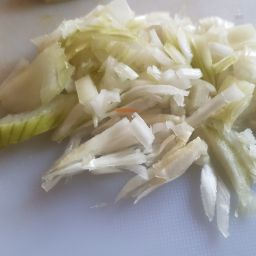Finely chopped onions: (16, 1, 256, 233), (1, 27, 256, 238), (47, 55, 256, 216), (6, 2, 256, 108)
